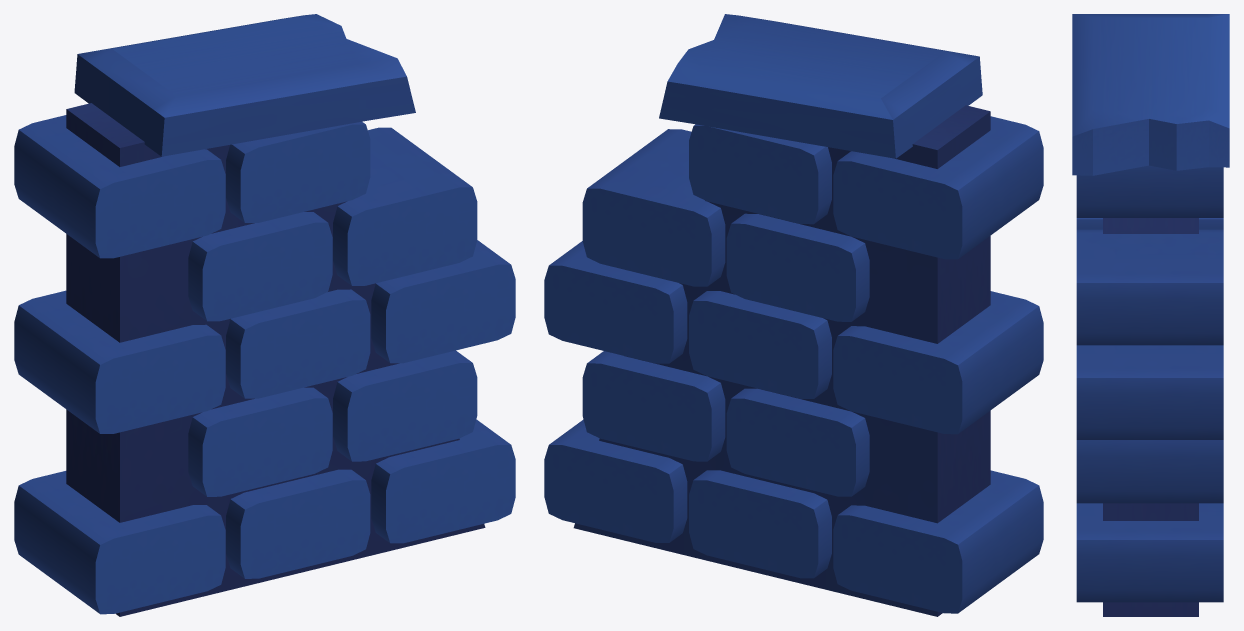
File: SM_WallEnd_02.fbx
3 views of the same model, side by side, from view 1: azimuth 30°, elevation 25°; view 2: azimuth 150°, elevation 25°; view 3: azimuth 270°, elevation 25° (orthographic). The views are drawn at different scales.
Parts seen in each view (by area): view 1: polySurface86; view 2: polySurface86; view 3: polySurface86.
Part boxes in pixels (x1,y1,x2,y2): polySurface86: [14, 14, 515, 616]; polySurface86: [544, 14, 1043, 616]; polySurface86: [1072, 14, 1229, 616].
Size of the model in its own units: 97.69 by 114 by 35.13.
